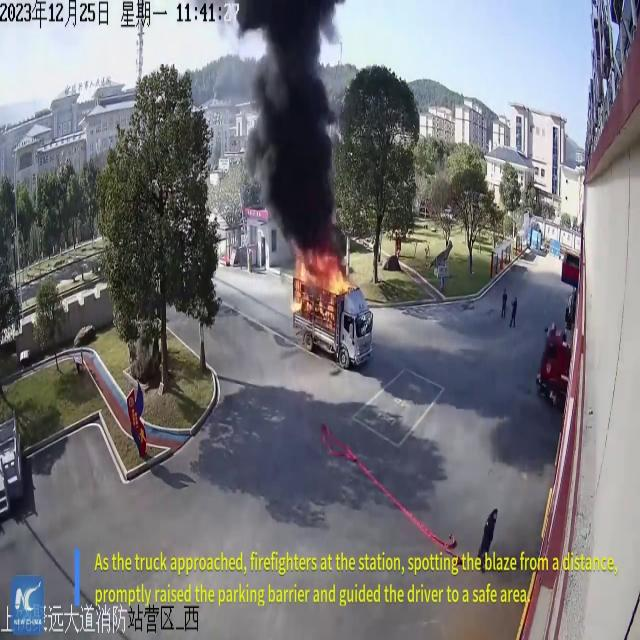Fire: (290, 245, 354, 319)
Smoke: (226, 1, 348, 250)
